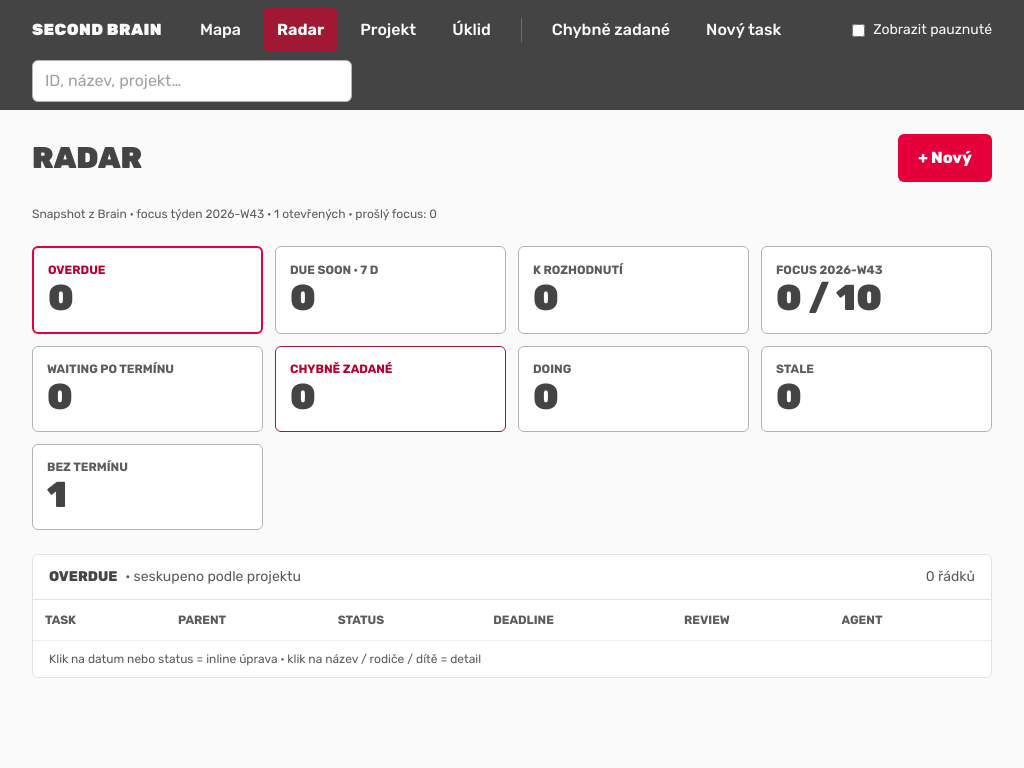
Test: screens › Detail / popis shows clickable links in read view
Click the button "Projekt" at (388, 30), box [346, 8, 430, 52]
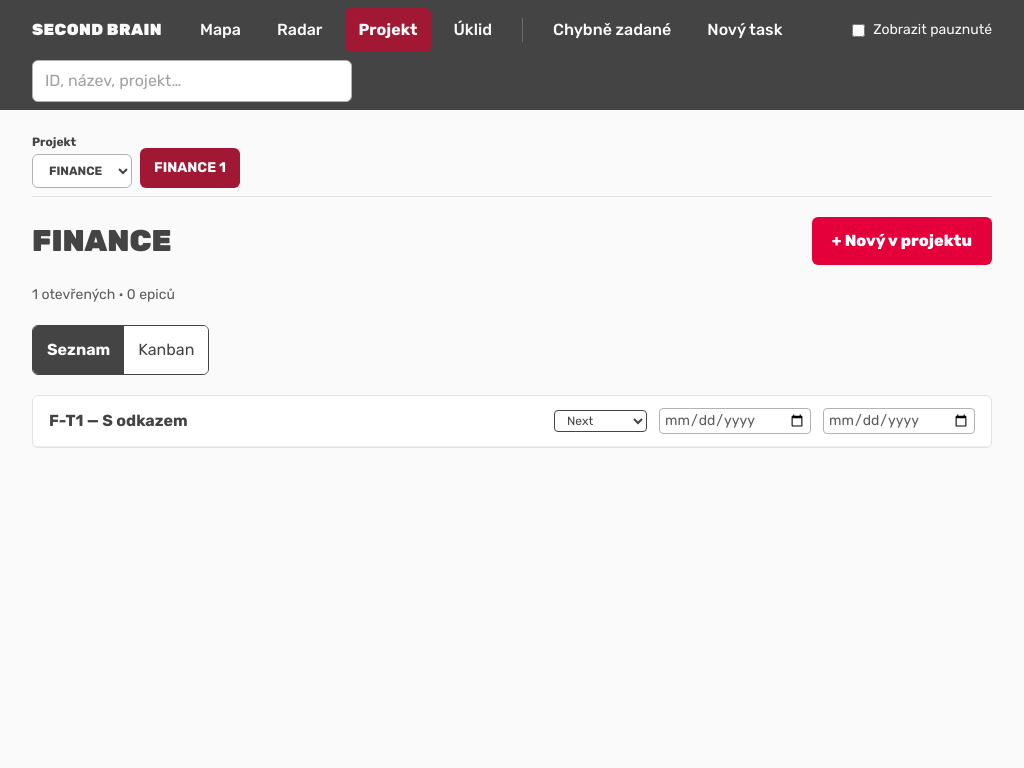
Click the button "F-T1 — S odkazem" at (118, 421), box [49, 409, 188, 433]
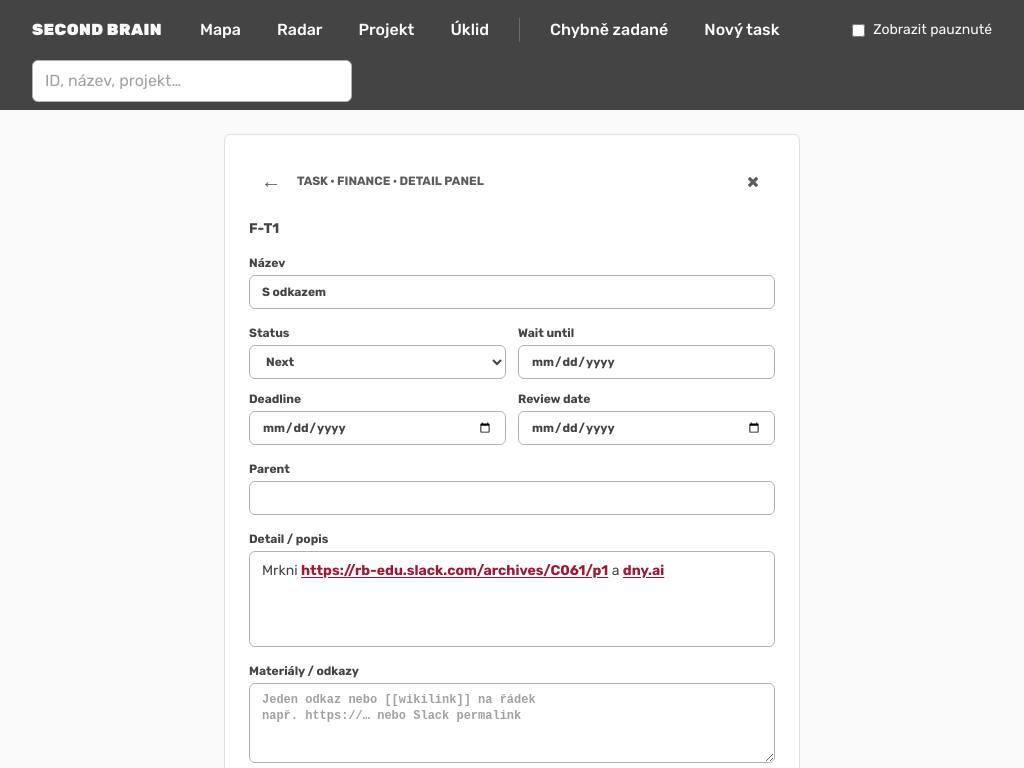
expect the button with aria-label "Detail úkolu" is shown: met, box [249, 551, 775, 647]
